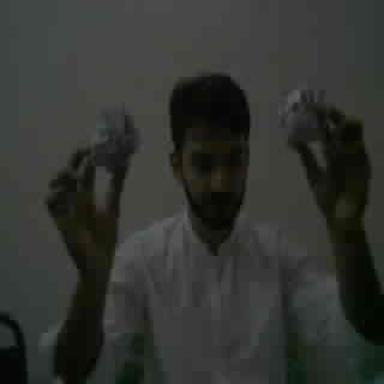paper: (90, 106, 139, 171), (280, 88, 330, 144)
